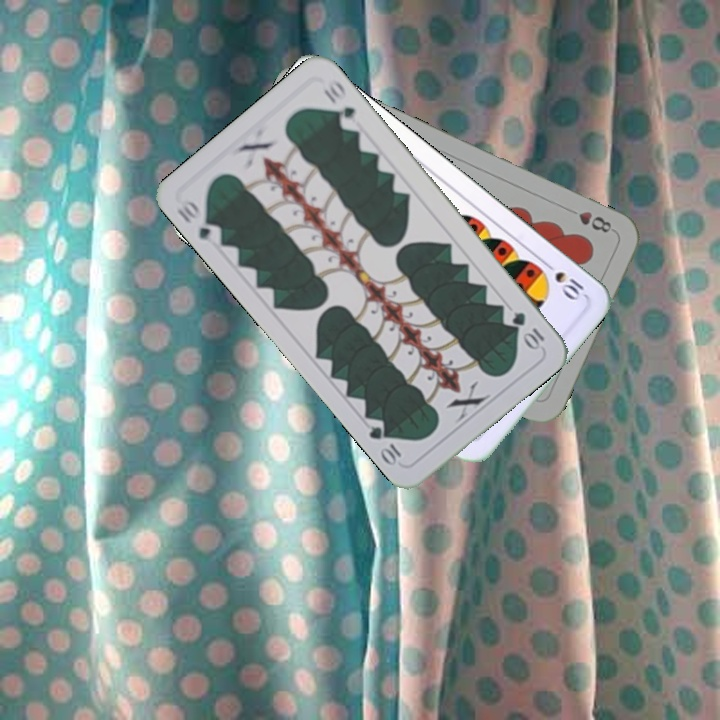G10: (172, 196, 225, 248), (508, 307, 547, 352)
H8: (562, 204, 614, 236)
S10: (539, 257, 588, 304)
